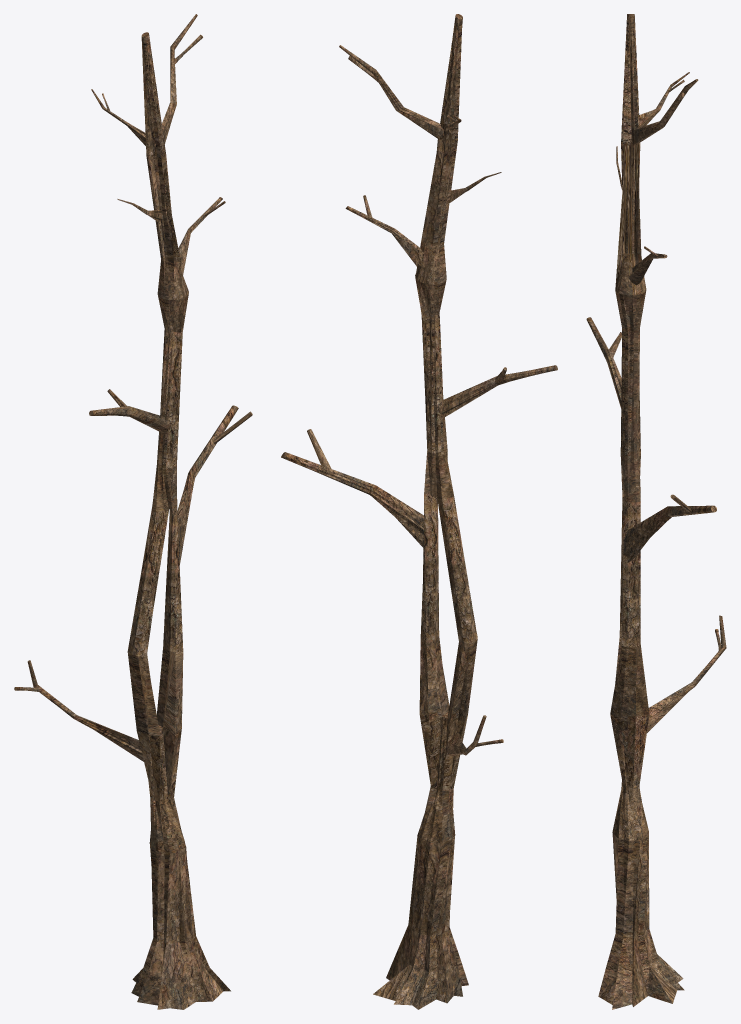
File: trunk3_v3.glb
3 views of the same model, side by side, from view 1: azimuth 30°, elevation 25°; view 2: azimuth 150°, elevation 25°; view 3: azimuth 270°, elevation 25° (orthographic). The views are drawn at different scales.
Parts seen in each view (by area): view 1: trunk3; view 2: trunk3; view 3: trunk3.
Boxes of the visible parts, x1,y1,x2,y2 form: trunk3: (14,14,252,1009); trunk3: (281,14,557,1009); trunk3: (586,14,726,1009).
Size of what is drawn, in the model's own units: 19.4 by 81.39 by 10.72.
Materials: 1 (1 with a texture image).
